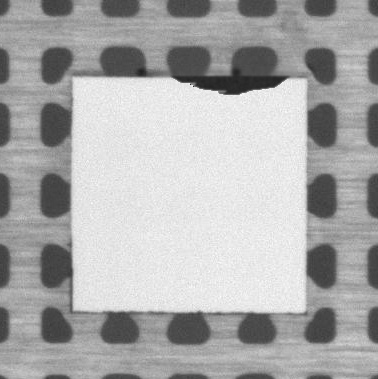DIE_BROKEN: (170, 73, 293, 94)
